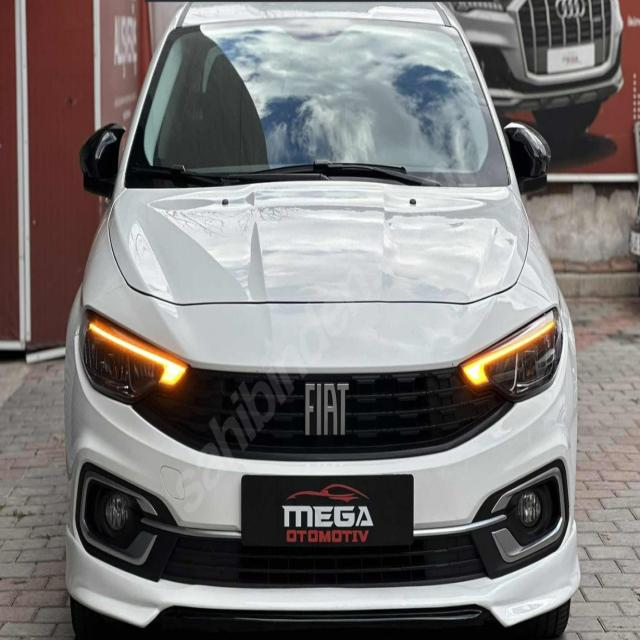fiat: (286, 374, 362, 444)
